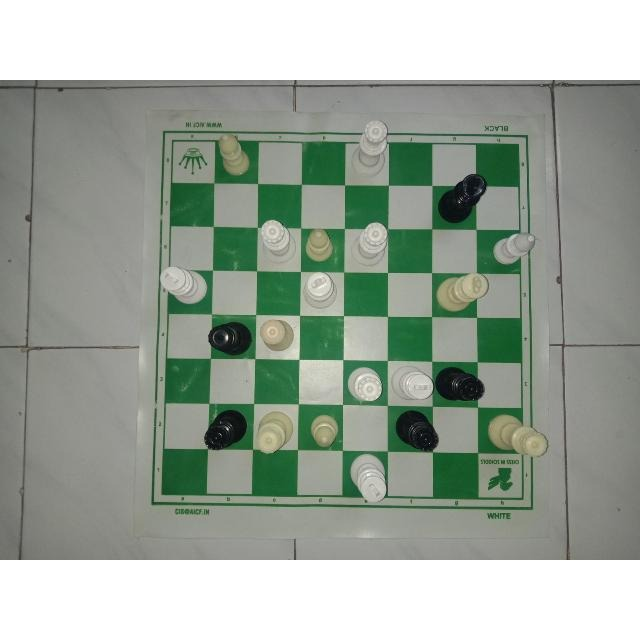black-king: (435, 172, 490, 227)
black-queen: (433, 363, 489, 407), (202, 407, 254, 454), (393, 414, 446, 454), (205, 318, 252, 362)
white-bishop: (215, 127, 254, 182), (487, 226, 541, 264), (304, 409, 345, 453), (301, 224, 339, 269)
white-king: (154, 263, 210, 311), (348, 454, 390, 510), (435, 270, 490, 310), (387, 366, 436, 408), (301, 268, 340, 314)
white-queen: (485, 412, 556, 460), (349, 116, 396, 180), (352, 216, 392, 272), (256, 214, 297, 267), (342, 364, 389, 408), (254, 411, 296, 459), (257, 316, 301, 358)
